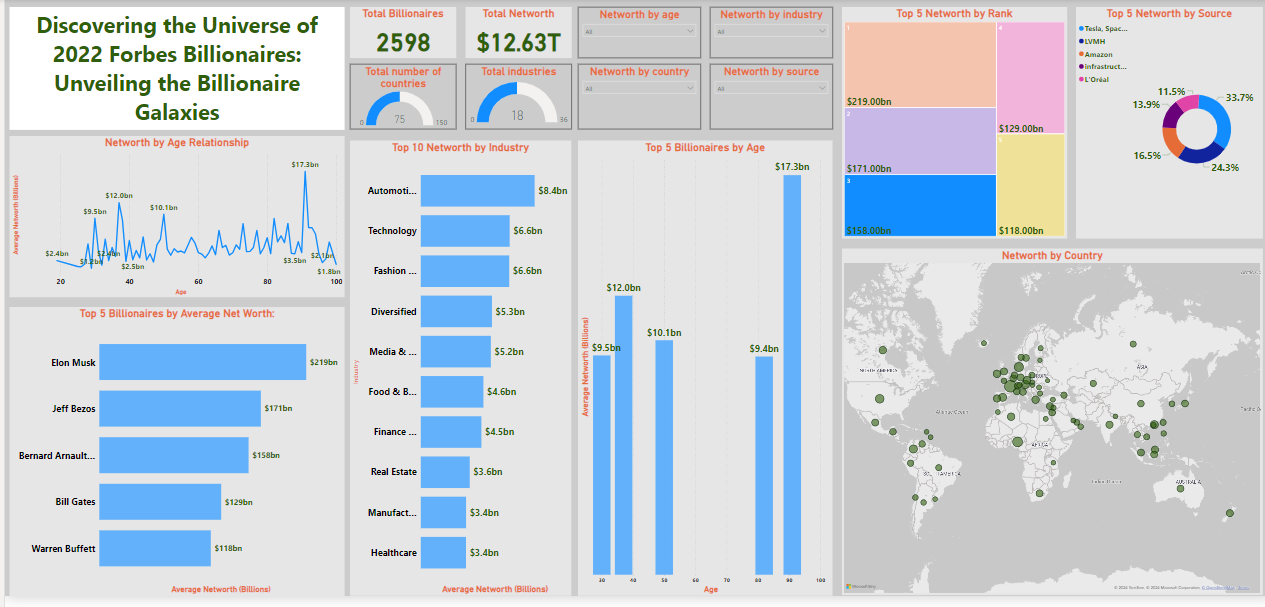

Layout of this report page (visuals, bound fields, positions):
{"tool":"powerbi","page":{"name":"THE DASHBOARD ANALYSIS OF 2022 FORBES BILLIONAIRES","canvas":[2800,1320],"ordinal":0},"visuals":[{"type":"textbox","box":[11.3,19.8,740,271.2],"z":0},{"type":"clusteredBarChart","title":"Top 5 Billionaires by Average Net Worth:","fields":{"Category":["2022_forbes_billionaires.name"],"Y":["Avg(2022_forbes_billionaires.networth(T))"]},"box":[11.3,680.7,740,638.3],"z":1000},{"type":"clusteredColumnChart","title":"Top 5 Billionaires by Age","fields":{"Category":["2022_forbes_billionaires.age"],"Y":["Avg(2022_forbes_billionaires.networth(T))"]},"box":[1265.4,313.5,562.1,1005.5],"z":2000},{"type":"lineChart","title":" Networth by Age Relationship","fields":{"Category":["2022_forbes_billionaires.age"],"Y":["Avg(2022_forbes_billionaires.networth(T))"]},"box":[11.3,305,740,355.9],"z":3000},{"type":"barChart","title":"Top 10 Networth by Industry","fields":{"Category":["2022_forbes_billionaires.industry"],"Y":["Avg(2022_forbes_billionaires.networth(T))"]},"box":[762.6,313.5,488.6,1005.5],"z":4000},{"type":"card","title":"Total Billionaires","fields":{"Values":["2022_forbes_billionaires.Total Billionaires"]},"box":[762.6,19.8,234.4,113],"z":5000},{"type":"card","title":"Total Networth","fields":{"Values":["Sum(2022_forbes_billionaires.networth(T))"]},"box":[1016.8,19.8,234.4,113],"z":6000},{"type":"slicer","title":"Networth by age","fields":{"Values":["2022_forbes_billionaires.age"]},"box":[1265.4,19.8,271.2,113],"z":7000},{"type":"slicer","title":"Networth by industry","fields":{"Values":["2022_forbes_billionaires.industry"]},"box":[1556.3,19.8,271.2,113],"z":8000},{"type":"slicer","title":"Networth by country","fields":{"Values":["2022_forbes_billionaires.country"]},"box":[1265.4,146.9,271.2,144],"z":9000},{"type":"slicer","title":"Networth by source","fields":{"Values":["2022_forbes_billionaires.source"]},"box":[1556.3,146.9,271.2,144],"z":10000},{"type":"gauge","title":"Total number of countries","fields":{"Y":["Count(2022_forbes_billionaires.country)"]},"box":[762.6,146.9,234.4,144],"z":11000},{"type":"gauge","title":"Total industries","fields":{"Y":["Count(2022_forbes_billionaires.industry)"]},"box":[1016.8,146.9,234.4,144],"z":12000},{"type":"map","title":" Networth by Country","fields":{"Category":["2022_forbes_billionaires.country"],"Size":["Avg(2022_forbes_billionaires.networth(T))"]},"box":[1847.2,553.6,929.3,765.4],"z":13000},{"type":"treemap","title":"Top 5 Networth by Rank","fields":{"Group":["2022_forbes_billionaires.rank"],"Values":["Sum(2022_forbes_billionaires.networth(T))"]},"box":[1847.2,19.8,497.1,511.2],"z":14000},{"type":"donutChart","title":"Top 5 Networth by Source","fields":{"Category":["2022_forbes_billionaires.source"],"Y":["Avg(2022_forbes_billionaires.networth(T))"]},"box":[2364.1,19.8,412.4,511.2],"z":15000}]}

Visuals, with their boxes in screenshot pixels (x1, y1, x2, y2), scaled from the page's 2800x1320 canvas onto the 1265x607 screenshot:
textbox: 5:9:339:134
"Top 5 Billionaires by Average Net Worth:" clusteredBarChart: 5:313:339:606
"Top 5 Billionaires by Age" clusteredColumnChart: 572:144:826:606
" Networth by Age Relationship" lineChart: 5:140:339:304
"Top 10 Networth by Industry" barChart: 345:144:565:606
"Total Billionaires" card: 345:9:450:61
"Total Networth" card: 459:9:565:61
"Networth by age" slicer: 572:9:694:61
"Networth by industry" slicer: 703:9:826:61
"Networth by country" slicer: 572:68:694:134
"Networth by source" slicer: 703:68:826:134
"Total number of countries" gauge: 345:68:450:134
"Total industries" gauge: 459:68:565:134
" Networth by Country" map: 835:255:1254:606
"Top 5 Networth by Rank" treemap: 835:9:1059:244
"Top 5 Networth by Source" donutChart: 1068:9:1254:244
